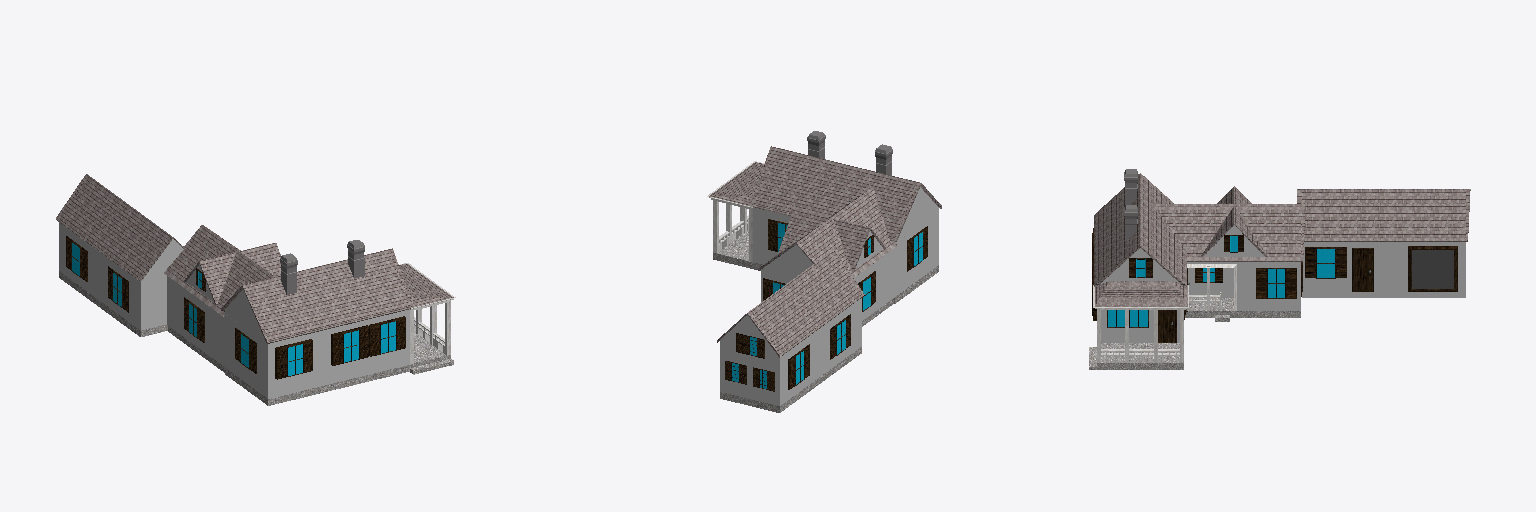
3 renders of one model, left to right at view 1: azimuth 30°, elevation 25°; view 2: azimuth 150°, elevation 25°; view 3: azimuth 270°, elevation 25°, orthographic.
Visible parts, largest first — view 1: Mesh1247 pasted__pCube1 test_obj Model, Mesh1248 group test_obj Model, Mesh1255 group1_1 test_obj Model, Mesh1262 group1_8 test_obj Model, Mesh1246 polySurface2 test_obj Model, Mesh5 Chimney1 test_obj Model, Mesh4 Chimney test_obj Model, Mesh163 group_pasted__Window_Shutter4 test_obj Model, Mesh37 group_pasted__Window_Shutter2 test_obj Model, Mesh100 group_pasted__Window_Shutter3 test_obj Model; view 2: Mesh1247 pasted__pCube1 test_obj Model, Mesh1248 group test_obj Model, Mesh1255 group1_1 test_obj Model, Mesh1262 group1_8 test_obj Model, Mesh1246 polySurface2 test_obj Model; view 3: Mesh1248 group test_obj Model, Mesh1247 pasted__pCube1 test_obj Model, Mesh1255 group1_1 test_obj Model, Mesh1246 polySurface2 test_obj Model, Mesh797 Large_Door test_obj Model, Mesh1113 pCube36 test_obj Model, Mesh1262 group1_8 test_obj Model, Mesh795 Door2 test_obj Model, Mesh478 group_pasted__Window_Shutter8 test_obj Model, Mesh1254 group6 test_obj Model, Mesh793 Door1 test_obj Model, Mesh415 group_pasted__Window_Shutter7 test_obj Model.
Boxes of the visible parts, x1,y1,x2,y2 form: Mesh1247 pasted__pCube1 test_obj Model: [221, 248, 450, 405]; Mesh1248 group test_obj Model: [56, 174, 186, 336]; Mesh1255 group1_1 test_obj Model: [164, 225, 274, 372]; Mesh1262 group1_8 test_obj Model: [184, 243, 280, 305]; Mesh1246 polySurface2 test_obj Model: [399, 264, 453, 306]; Mesh5 Chimney1 test_obj Model: [280, 253, 297, 294]; Mesh4 Chimney test_obj Model: [347, 240, 364, 278]; Mesh163 group_pasted__Window_Shutter4 test_obj Model: [285, 341, 303, 376]; Mesh37 group_pasted__Window_Shutter2 test_obj Model: [379, 319, 396, 354]; Mesh100 group_pasted__Window_Shutter3 test_obj Model: [342, 328, 359, 363]; Mesh1247 pasted__pCube1 test_obj Model: [713, 146, 941, 303]; Mesh1248 group test_obj Model: [717, 250, 864, 412]; Mesh1255 group1_1 test_obj Model: [757, 187, 904, 326]; Mesh1262 group1_8 test_obj Model: [778, 209, 885, 272]; Mesh1246 polySurface2 test_obj Model: [709, 162, 763, 206]; Mesh1248 group test_obj Model: [1297, 189, 1470, 297]; Mesh1247 pasted__pCube1 test_obj Model: [1094, 173, 1186, 369]; Mesh1255 group1_1 test_obj Model: [1152, 204, 1305, 317]; Mesh1246 polySurface2 test_obj Model: [1095, 281, 1187, 306]; Mesh797 Large_Door test_obj Model: [1408, 246, 1457, 291]; Mesh1113 pCube36 test_obj Model: [1186, 264, 1236, 310]; Mesh1262 group1_8 test_obj Model: [1201, 186, 1267, 256]; Mesh795 Door2 test_obj Model: [1352, 248, 1373, 291]; Mesh478 group_pasted__Window_Shutter8 test_obj Model: [1316, 247, 1335, 278]; Mesh1254 group6 test_obj Model: [1204, 225, 1264, 256]; Mesh793 Door1 test_obj Model: [1158, 310, 1176, 342]; Mesh415 group_pasted__Window_Shutter7 test_obj Model: [1267, 268, 1285, 298].
Size of the model in its own units: 411 by 236 by 635.
10 materials, 5 textured.